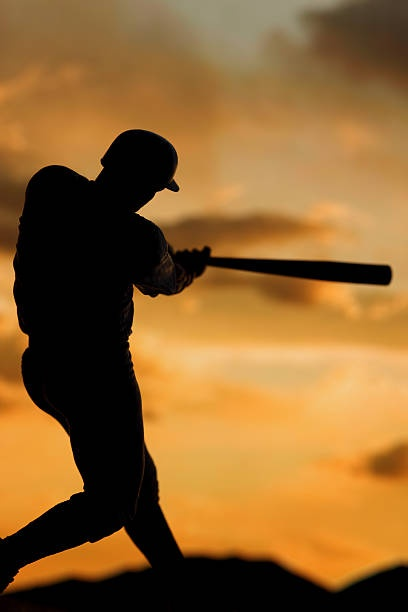bita: (189, 244, 389, 289)
